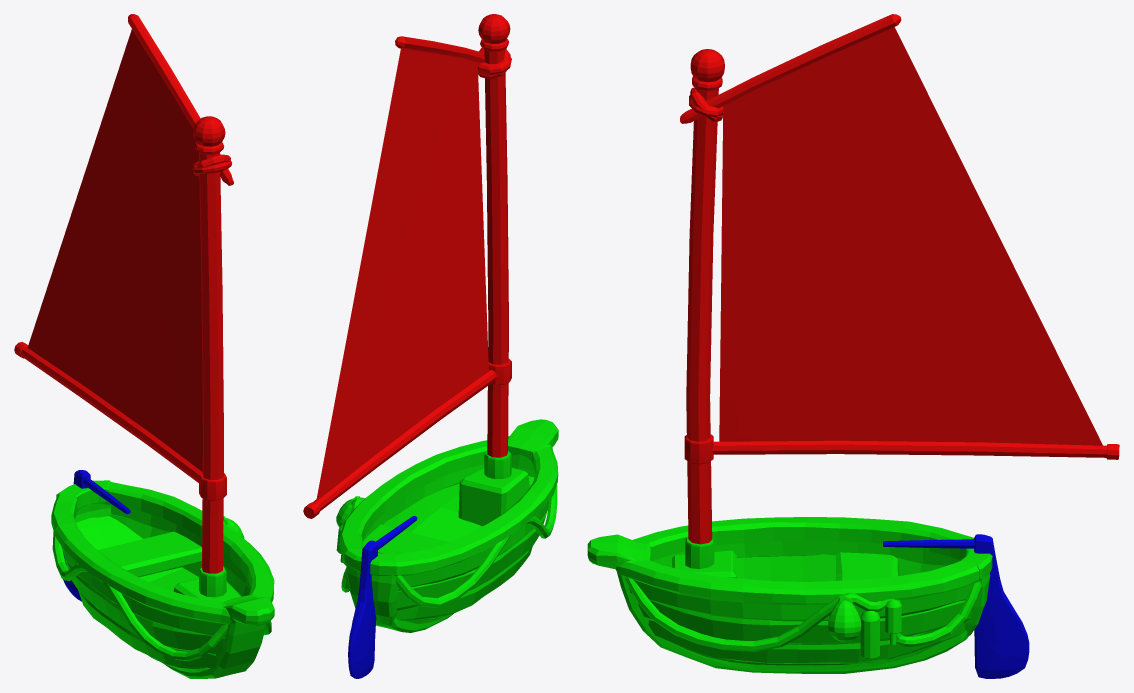
Rendered from Boat.fbx.
3 views of the same model, side by side, from view 1: azimuth 30°, elevation 25°; view 2: azimuth 150°, elevation 25°; view 3: azimuth 270°, elevation 25° (orthographic). The views are drawn at different scales.
Visible parts, largest first — view 1: Sail, Boat, Rudder; view 2: Sail, Boat, Rudder; view 3: Sail, Boat, Rudder.
Boxes of the visible parts, bbox=[...] form: Sail: bbox=[14, 14, 233, 573]; Boat: bbox=[51, 480, 274, 678]; Rudder: bbox=[63, 470, 130, 601]; Sail: bbox=[303, 14, 511, 518]; Boat: bbox=[336, 419, 558, 632]; Rudder: bbox=[348, 516, 417, 678]; Sail: bbox=[680, 14, 1119, 544]; Boat: bbox=[587, 517, 992, 673]; Rudder: bbox=[883, 534, 1029, 678].
Size of the model in its own units: 0.6475 by 2.27 by 1.63.
